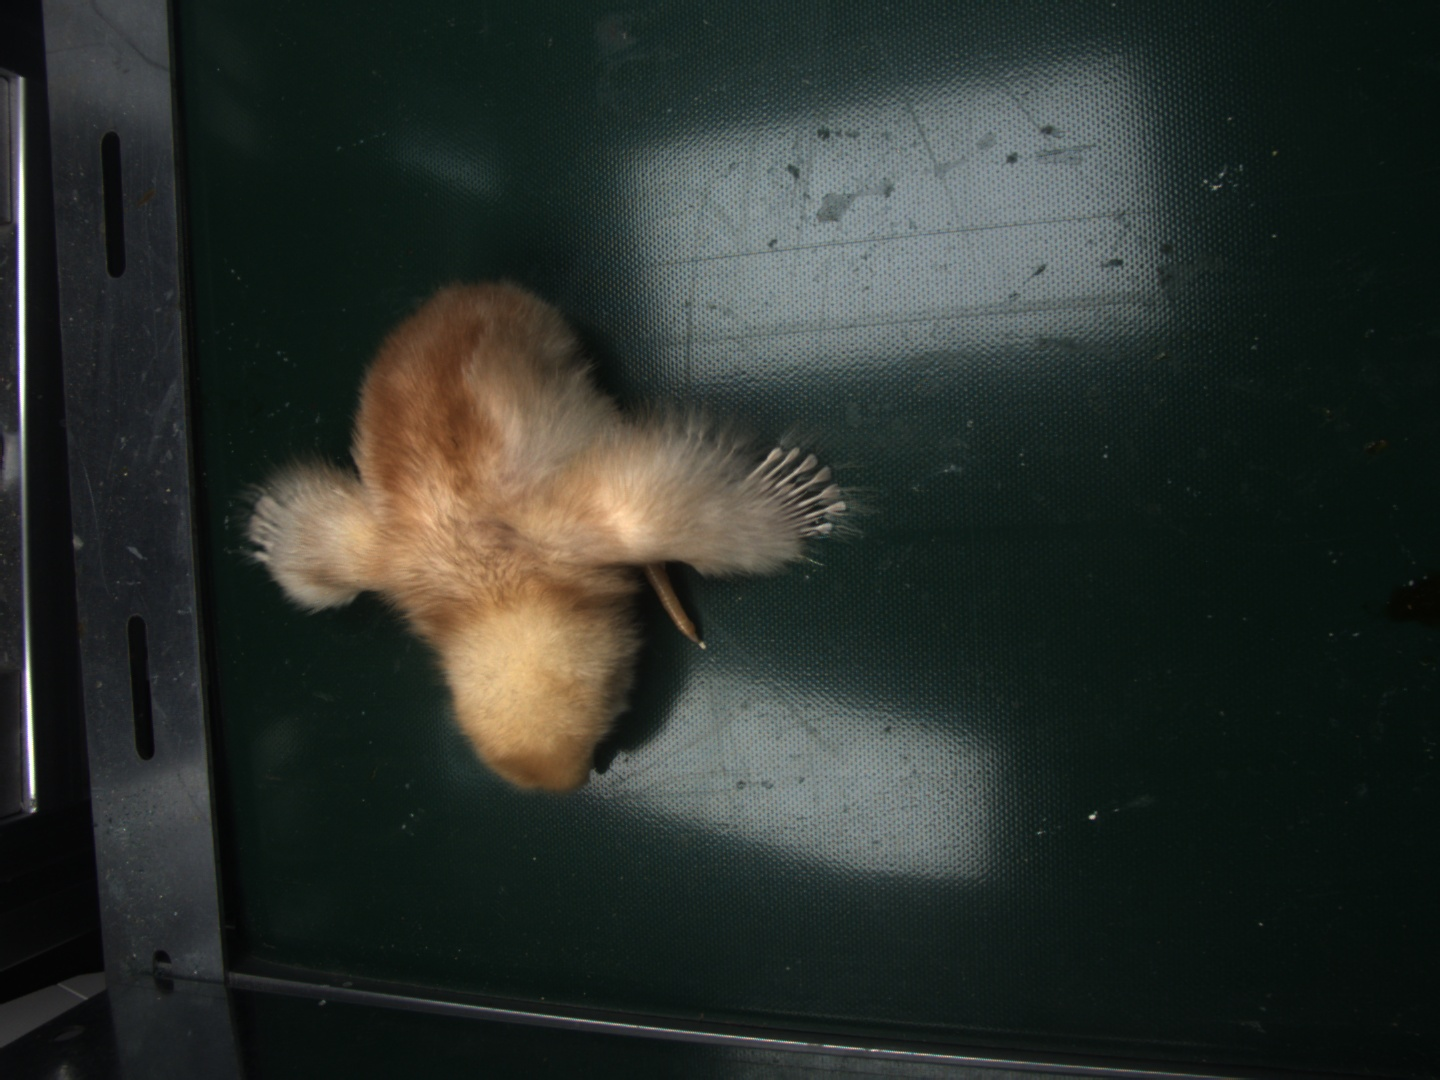female: (751, 445, 848, 535)
